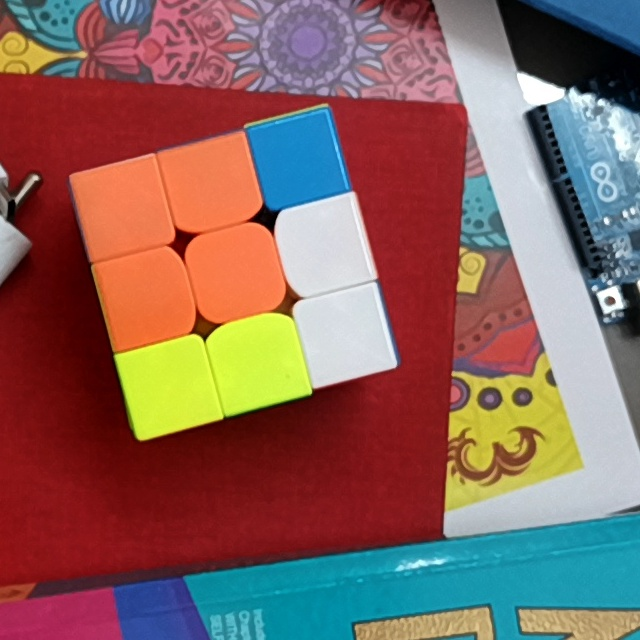tile: (201, 238, 273, 309), (86, 173, 157, 244), (111, 263, 181, 334), (175, 150, 247, 218), (311, 300, 379, 369), (223, 328, 294, 394), (137, 353, 204, 419), (265, 127, 330, 193), (292, 212, 356, 278)
